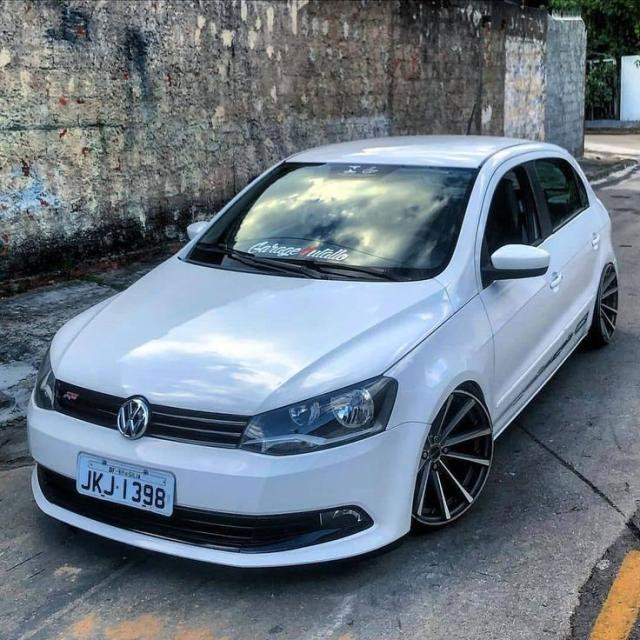Placas: (77, 452, 175, 517)
